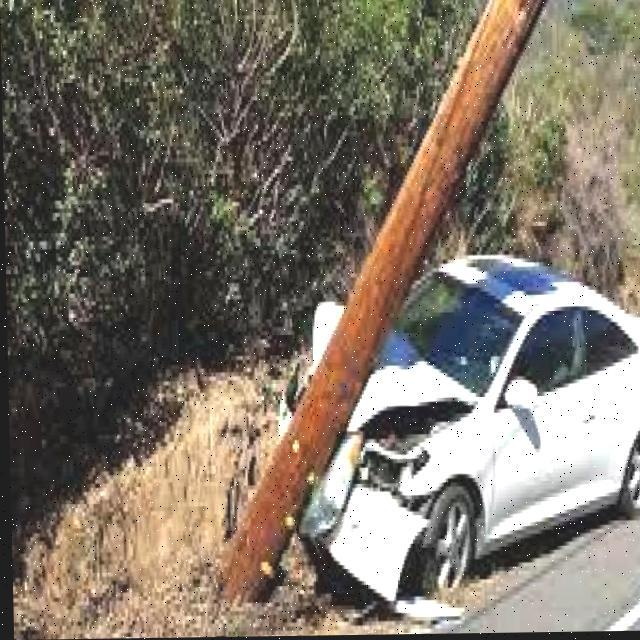single accident: (289, 209, 536, 583)
